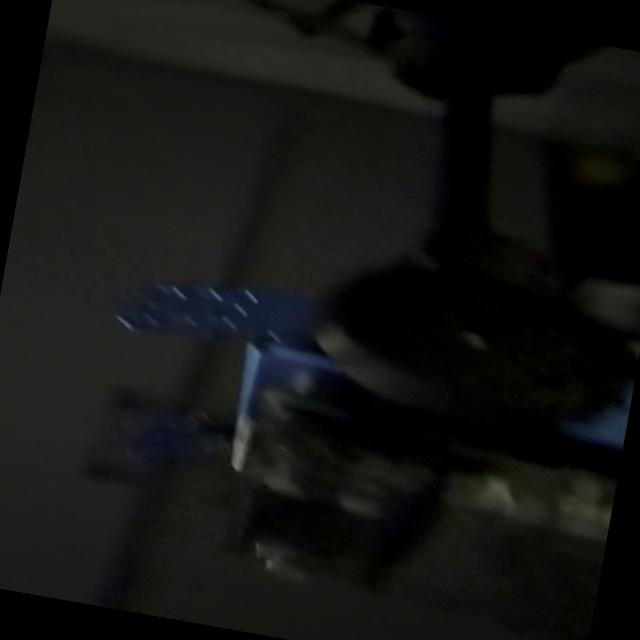mbot-detection: (55, 201, 640, 640)
